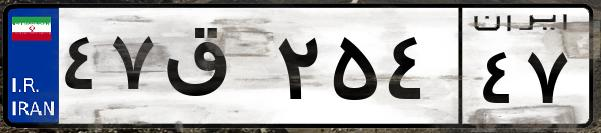2: (270, 28, 330, 110)
4: (385, 28, 445, 110), (57, 26, 110, 100), (475, 38, 525, 113)
5: (330, 28, 385, 110)
7: (525, 38, 570, 115), (110, 28, 158, 98)
ق: (158, 20, 270, 120)
